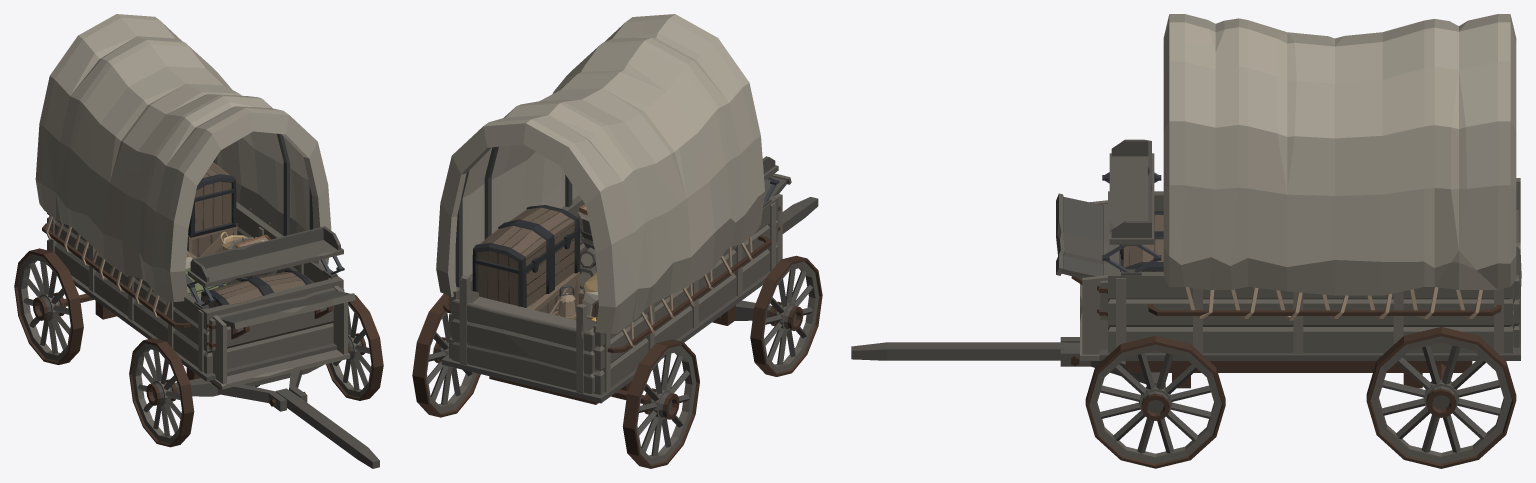
File: fortune_wagon.glb
3 views of the same model, side by side, from view 1: azimuth 30°, elevation 25°; view 2: azimuth 150°, elevation 25°; view 3: azimuth 270°, elevation 25° (orthographic). The views are drawn at different scales.
Parts seen in each view (by area): view 1: SM_Veh_Wagon_Travel_01; view 2: SM_Veh_Wagon_Travel_01; view 3: SM_Veh_Wagon_Travel_01.
Boxes of the visible parts, x1,y1,x2,y2 form: SM_Veh_Wagon_Travel_01: [14, 14, 383, 468]; SM_Veh_Wagon_Travel_01: [412, 14, 822, 468]; SM_Veh_Wagon_Travel_01: [851, 14, 1521, 468].
Size of the model in its own units: 2.7 by 3.72 by 5.88.
Materials: 1 (1 with a texture image).
